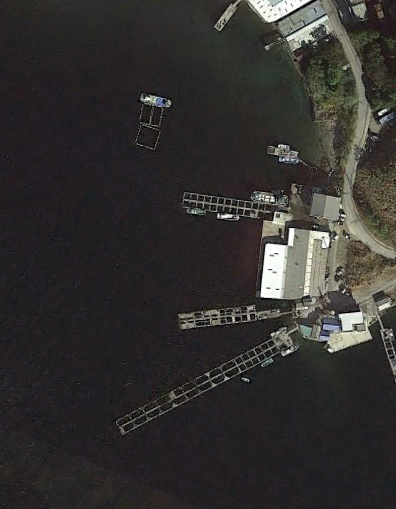house: (261, 221, 329, 302), (302, 184, 349, 222), (336, 310, 368, 333), (317, 315, 340, 342), (374, 294, 396, 313)
platform: (265, 141, 306, 167), (216, 3, 238, 34), (255, 305, 295, 318)
ship: (134, 85, 177, 111), (249, 186, 290, 204), (214, 206, 242, 224), (279, 341, 302, 357), (181, 206, 209, 218), (275, 153, 301, 164), (260, 355, 274, 369)
square: (132, 93, 164, 128), (133, 120, 165, 153)
